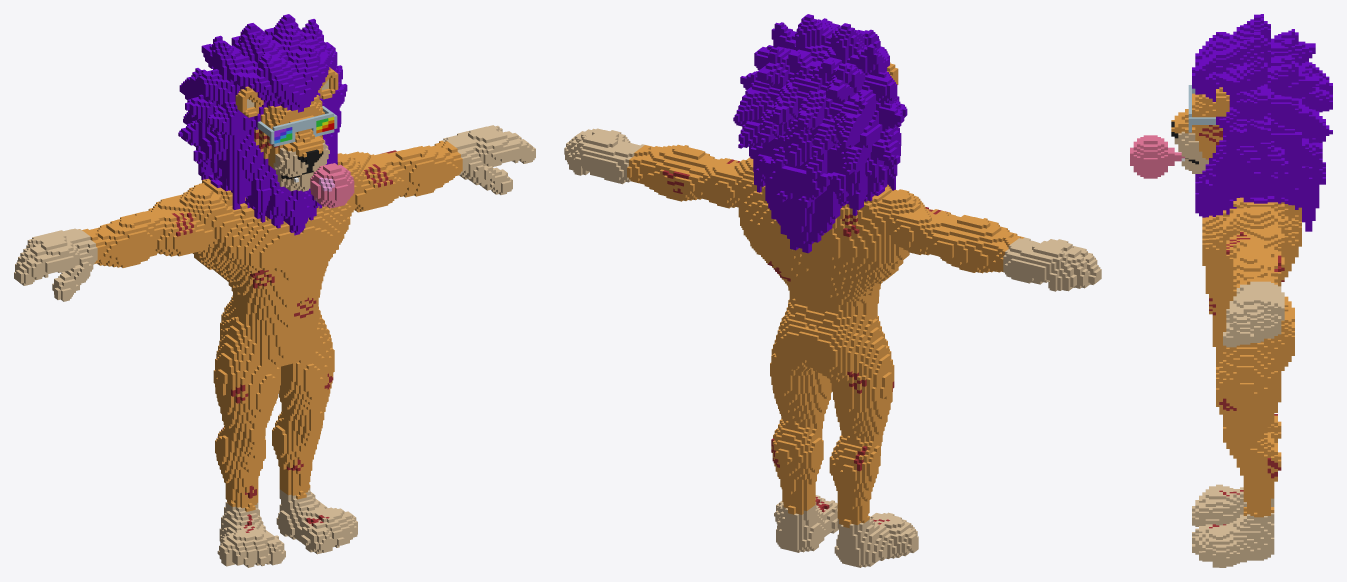
File: 821-CTGu-_L1.glb
3 views of the same model, side by side, from view 1: azimuth 30°, elevation 25°; view 2: azimuth 150°, elevation 25°; view 3: azimuth 270°, elevation 25° (orthographic). The views are drawn at different scales.
Visible parts, largest first — view 1: bubble_gum; view 2: bubble_gum; view 3: bubble_gum.
Boxes of the visible parts, box(x1,y1,x2,y2) form: bubble_gum: box(14, 14, 535, 567); bubble_gum: box(564, 14, 1101, 567); bubble_gum: box(1130, 14, 1332, 567).
Bounding box in the file's own units: 17.2 × 16.5 × 5.9.
Materials: 4 (4 with a texture image).
